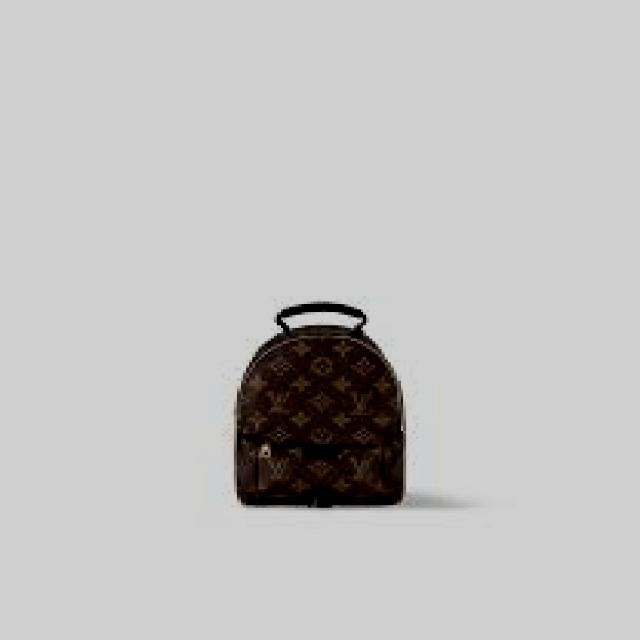backpack: (232, 300, 408, 509)
